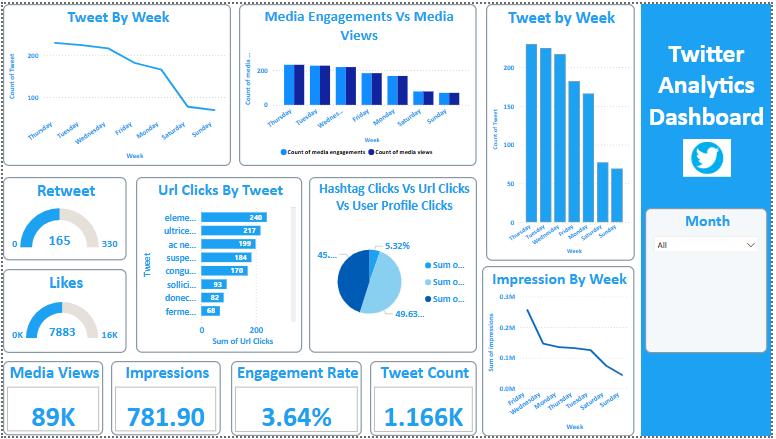

What the dashboard file says about the page in this screenshot:
{"tool":"powerbi","page":{"name":"Dashboard","canvas":[1280,720],"ordinal":0},"visuals":[{"type":"textbox","box":[1062.5,0,217.5,720],"z":0},{"type":"image","box":[1132.5,225,80,62.5],"z":1000},{"type":"cardVisual","title":"Media Views","fields":{"Data":["Sum(SocialMedia.media views)"]},"box":[0,595.7,167.1,124.3],"z":2000},{"type":"cardVisual","title":"Impressions","fields":{"Data":["Avg(SocialMedia.impressions)"]},"box":[180,595.7,182.9,124.3],"z":3000},{"type":"cardVisual","title":"Engagement Rate","fields":{"Data":["Avg(SocialMedia.engagement rate)"]},"box":[380,595,218.3,125],"z":4000},{"type":"cardVisual","title":"Tweet Count","fields":{"Data":["CountNonNull(SocialMedia.Tweet)"]},"box":[611.7,595,178.3,125],"z":5000},{"type":"gauge","title":"Likes","fields":{"Y":["Sum(SocialMedia.likes)"]},"box":[0,442,206,140],"z":6000},{"type":"gauge","title":"Retweet","fields":{"Y":["Max(SocialMedia.retweets)"]},"box":[0,287.8,205.6,139.4],"z":7000},{"type":"lineChart","title":"Tweet By Week","fields":{"Category":["SocialMedia.Day Name"],"Y":["Count(SocialMedia.Tweet)"]},"box":[0,0,380,270],"z":8000},{"type":"clusteredBarChart","title":"Url Clicks By Tweet","fields":{"Category":["SocialMedia.Tweet"],"Y":["Sum(SocialMedia.url clicks)"]},"box":[221.7,288.3,276.7,293.3],"z":9000},{"type":"lineChart","title":"Impression By Week","fields":{"Category":["SocialMedia.Day Name"],"Y":["Sum(SocialMedia.impressions)"]},"box":[798,436,254,284],"z":10000},{"type":"clusteredColumnChart","title":"Media Engagements Vs Media Views","fields":{"Category":["SocialMedia.Day Name"],"Y":["CountNonNull(SocialMedia.media engagements)","CountNonNull(SocialMedia.media views)"]},"box":[394,0,396,270],"z":11000},{"type":"pieChart","title":"Hashtag Clicks Vs Url Clicks Vs User Profile Clicks","fields":{"Y":["Sum(SocialMedia.hashtag clicks)","Sum(SocialMedia.url clicks)","Sum(SocialMedia.user profile clicks)"]},"box":[510,288.3,280,293.3],"z":12000},{"type":"clusteredColumnChart","title":"Tweet by Week","fields":{"Category":["SocialMedia.Day Name"],"Y":["CountNonNull(SocialMedia.Tweet)"]},"box":[805,0,247.5,427.5],"z":13000},{"type":"slicer","title":"Month","fields":{"Values":["SocialMedia.Month Name"]},"box":[1070,340,204,242],"z":14000}]}

Visuals, with their boxes in screenshot pixels (x1, y1, x2, y2), scaled from the page's 1280x720 canvas onto the 776x439 screenshot:
textbox: (x1=644, y1=0, x2=775, y2=438)
image: (x1=687, y1=137, x2=735, y2=175)
"Media Views" cardVisual: (x1=0, y1=363, x2=101, y2=438)
"Impressions" cardVisual: (x1=109, y1=363, x2=220, y2=438)
"Engagement Rate" cardVisual: (x1=230, y1=363, x2=363, y2=438)
"Tweet Count" cardVisual: (x1=371, y1=363, x2=479, y2=438)
"Likes" gauge: (x1=0, y1=269, x2=125, y2=355)
"Retweet" gauge: (x1=0, y1=175, x2=125, y2=260)
"Tweet By Week" lineChart: (x1=0, y1=0, x2=230, y2=165)
"Url Clicks By Tweet" clusteredBarChart: (x1=134, y1=176, x2=302, y2=355)
"Impression By Week" lineChart: (x1=484, y1=266, x2=638, y2=438)
"Media Engagements Vs Media Views" clusteredColumnChart: (x1=239, y1=0, x2=479, y2=165)
"Hashtag Clicks Vs Url Clicks Vs User Profile Clicks" pieChart: (x1=309, y1=176, x2=479, y2=355)
"Tweet by Week" clusteredColumnChart: (x1=488, y1=0, x2=638, y2=261)
"Month" slicer: (x1=649, y1=207, x2=772, y2=355)
